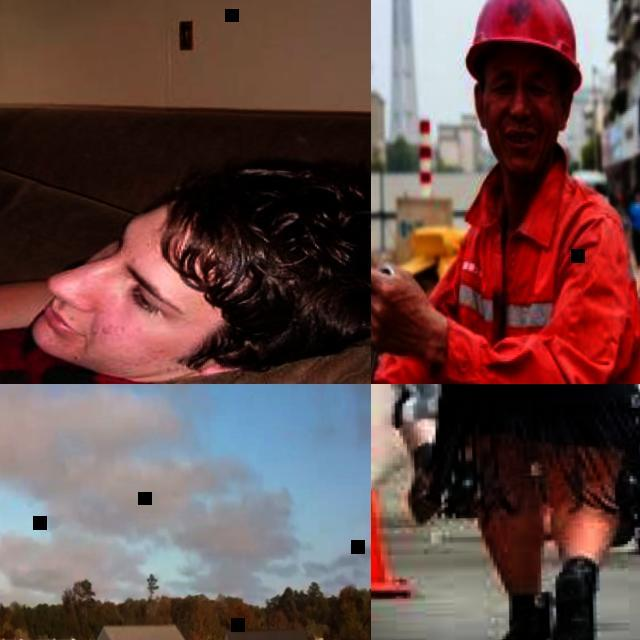Weapon: (2, 33, 356, 376), (376, 12, 640, 386)
objects: (435, 1, 614, 168)
